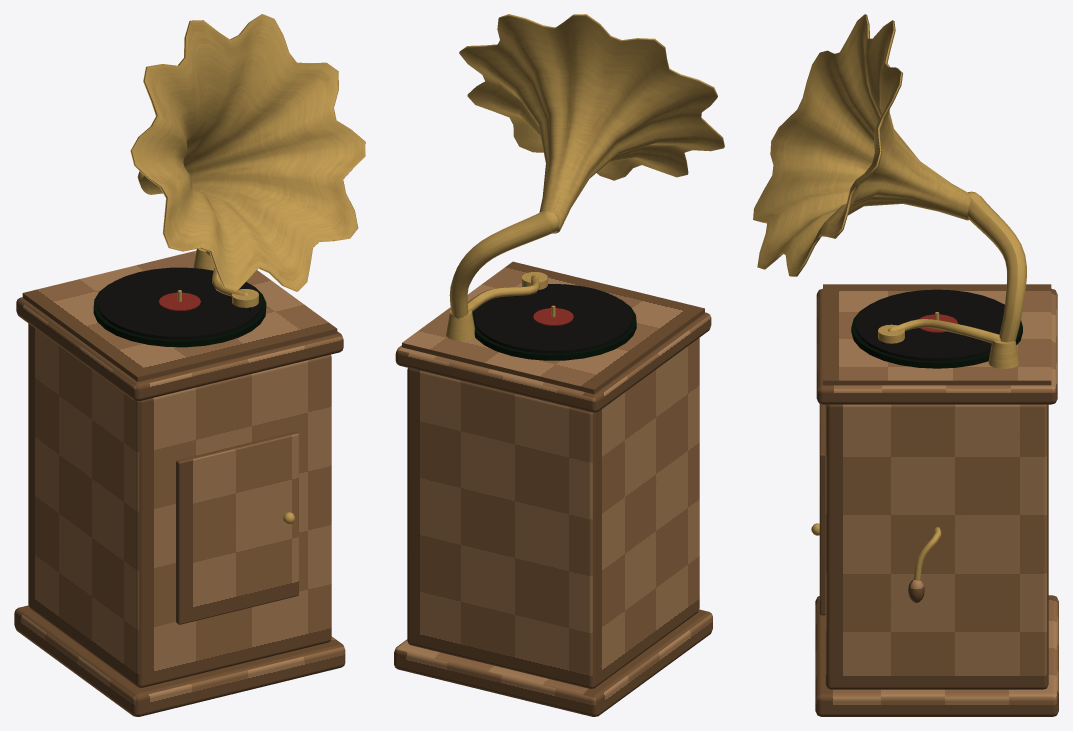
File: gramophone.glb
3 renders of one model, left to right at view 1: azimuth 30°, elevation 25°; view 2: azimuth 150°, elevation 25°; view 3: azimuth 270°, elevation 25°, orthographic. The views are drawn at different scales.
Parts seen in each view (by area): view 1: dyn_wood_variant, gramophone, anim_spin_0; view 2: dyn_wood_variant, gramophone, anim_spin_0; view 3: dyn_wood_variant, gramophone, anim_spin_0.
Part boxes in pixels (left/top/right/bottom): dyn_wood_variant: left=14, top=251, right=345, bottom=716; gramophone: left=130, top=14, right=365, bottom=524; anim_spin_0: left=93, top=267, right=266, bottom=347; dyn_wood_variant: left=394, top=261, right=712, bottom=716; gramophone: left=446, top=14, right=724, bottom=340; anim_spin_0: left=472, top=284, right=636, bottom=360; dyn_wood_variant: left=815, top=284, right=1058, bottom=716; gramophone: left=753, top=14, right=1026, bottom=580; anim_spin_0: left=851, top=289, right=1022, bottom=368.
Bounding box in the file's own units: 0.54 × 1.36 × 0.5893.
Materials: 6 (3 with a texture image).
